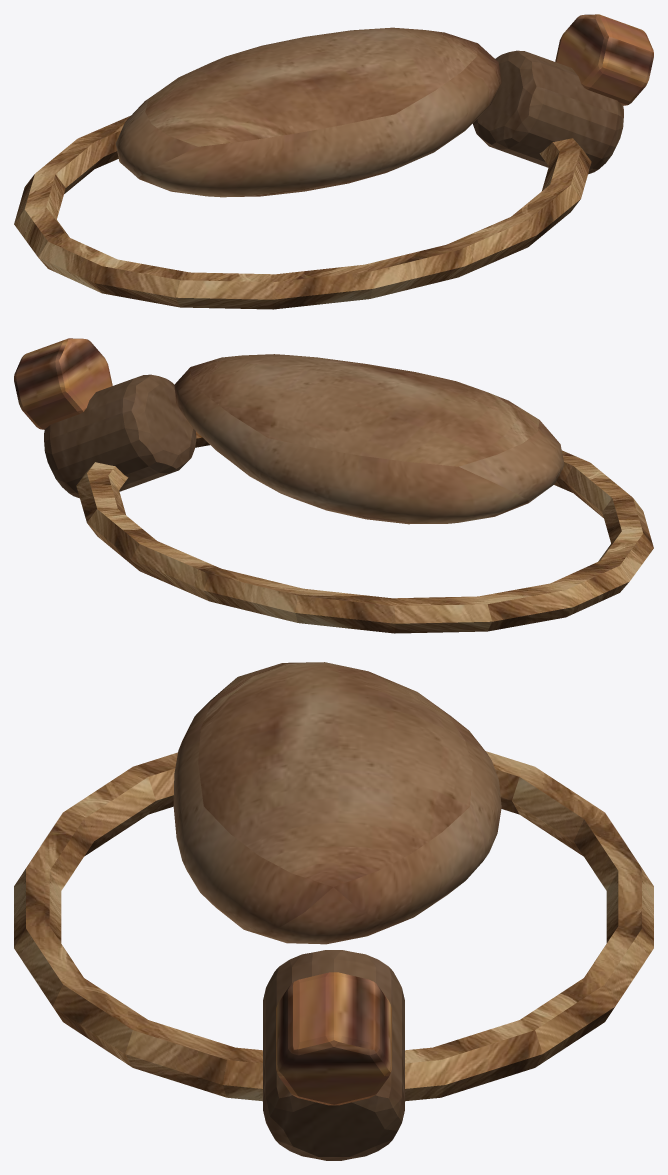
Rendered from waterskin_empty.glb.
The picture shows the model from 3 angles, top to bottom: view 1: azimuth 30°, elevation 25°; view 2: azimuth 150°, elevation 25°; view 3: azimuth 270°, elevation 25°; orthographic projection. The views are drawn at different scales.
Visible parts, largest first — view 1: model; view 2: model; view 3: model.
Boxes of the visible parts, x1,y1,x2,y2 form: model: (14, 14, 653, 309); model: (14, 338, 653, 633); model: (14, 662, 653, 1160).
Size of the model in its own units: 0.3218 by 0.0911 by 0.2127.
4 materials, 4 textured.
